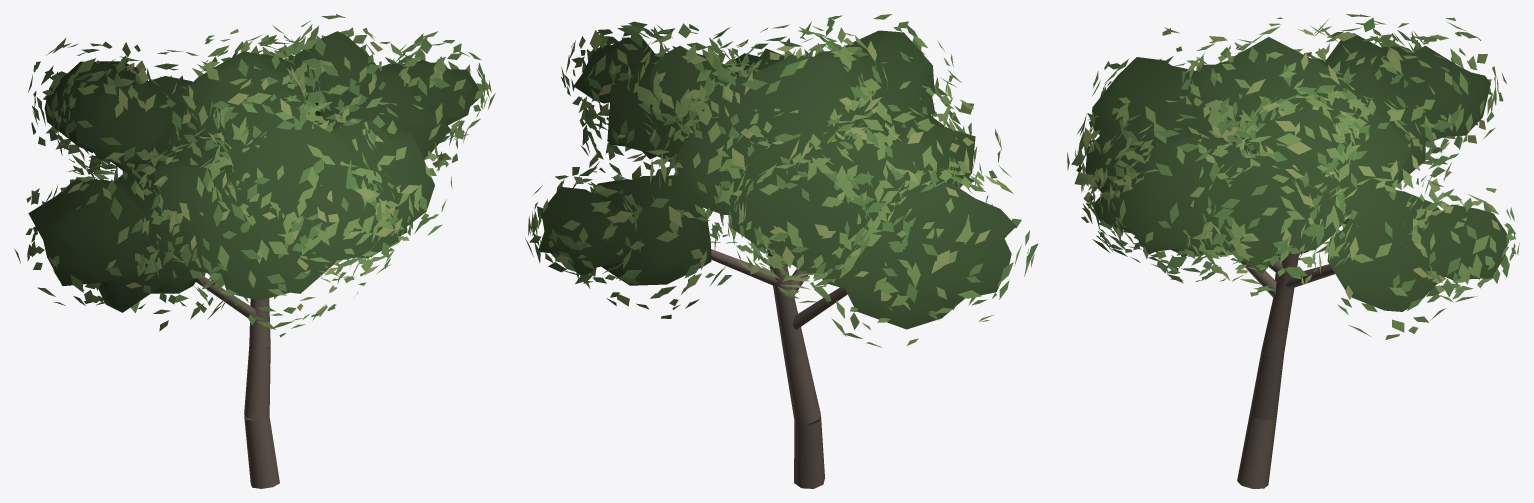
Rendered from ZR_LeafyTree_B.fbx.
3 renders of one model, left to right at view 1: azimuth 30°, elevation 25°; view 2: azimuth 150°, elevation 25°; view 3: azimuth 270°, elevation 25°, orthographic. The views are drawn at different scales.
Visible parts, largest first — view 1: ZR_LeafyTree_B; view 2: ZR_LeafyTree_B; view 3: ZR_LeafyTree_B.
Boxes of the visible parts, box(x1,y1,x2,y2) form: ZR_LeafyTree_B: box(14, 14, 495, 488); ZR_LeafyTree_B: box(525, 14, 1038, 488); ZR_LeafyTree_B: box(1067, 14, 1519, 488).
Bounding box in the file's own units: 6.8 × 6.31 × 5.7.
